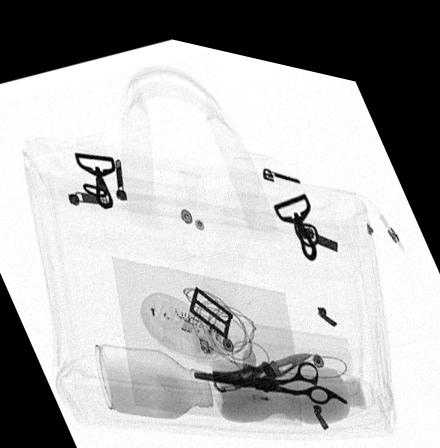Knife: (210, 337, 310, 382)
Scissors: (190, 341, 345, 390)
